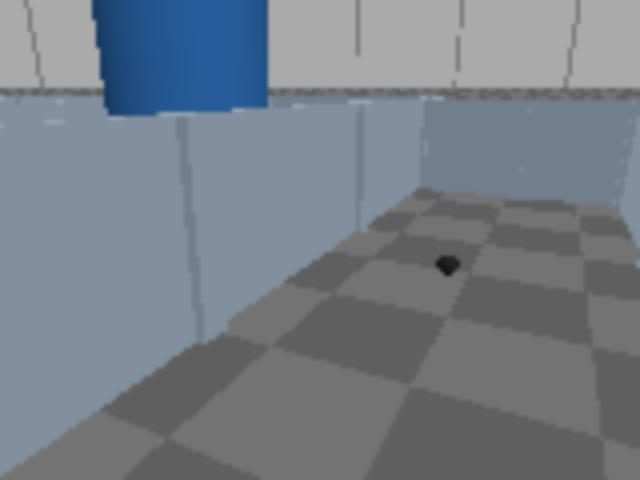puck: (433, 251, 463, 279)
